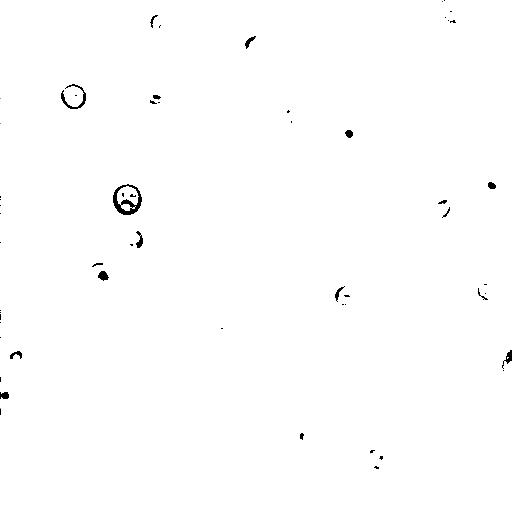micro-algae: (148, 1, 244, 97), (360, 437, 395, 470), (89, 261, 123, 293), (334, 116, 365, 151), (112, 184, 143, 217), (477, 271, 505, 305), (276, 103, 302, 132), (477, 172, 505, 198), (180, 30, 205, 58), (69, 413, 95, 439), (24, 165, 48, 193), (61, 84, 86, 109), (333, 283, 359, 307), (293, 425, 315, 452), (441, 1, 469, 22), (98, 359, 121, 382), (121, 226, 145, 248), (244, 33, 265, 57), (1, 381, 19, 408), (433, 197, 452, 221), (147, 14, 164, 30), (94, 266, 109, 281), (9, 349, 23, 363)
